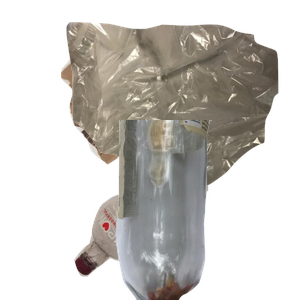cardboard: (58, 31, 222, 188)
glass: (113, 120, 300, 300)
plastic: (72, 142, 273, 300)
trash: (64, 20, 300, 200)
